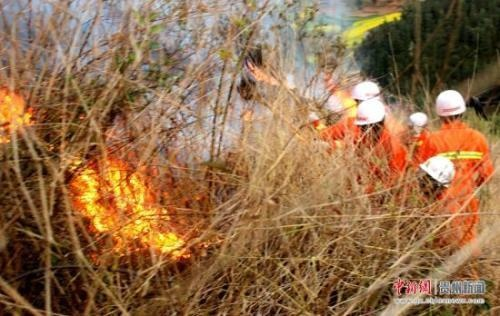fire: (72, 153, 192, 258), (1, 89, 32, 145)
